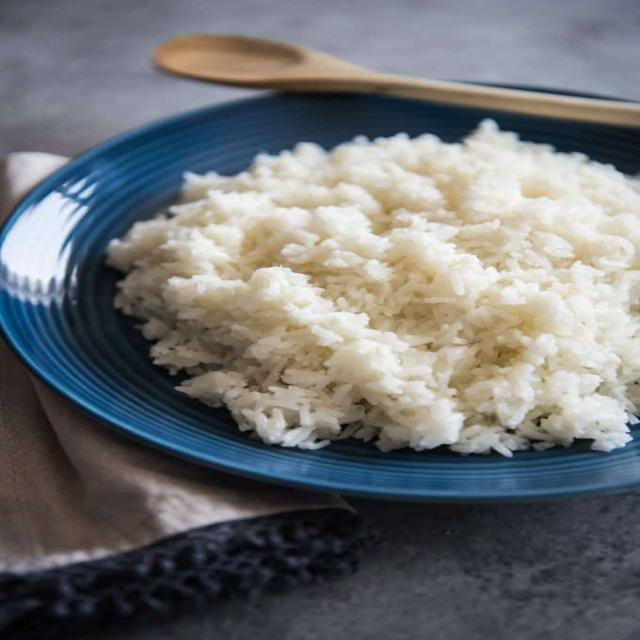Rice: (115, 121, 640, 452)
